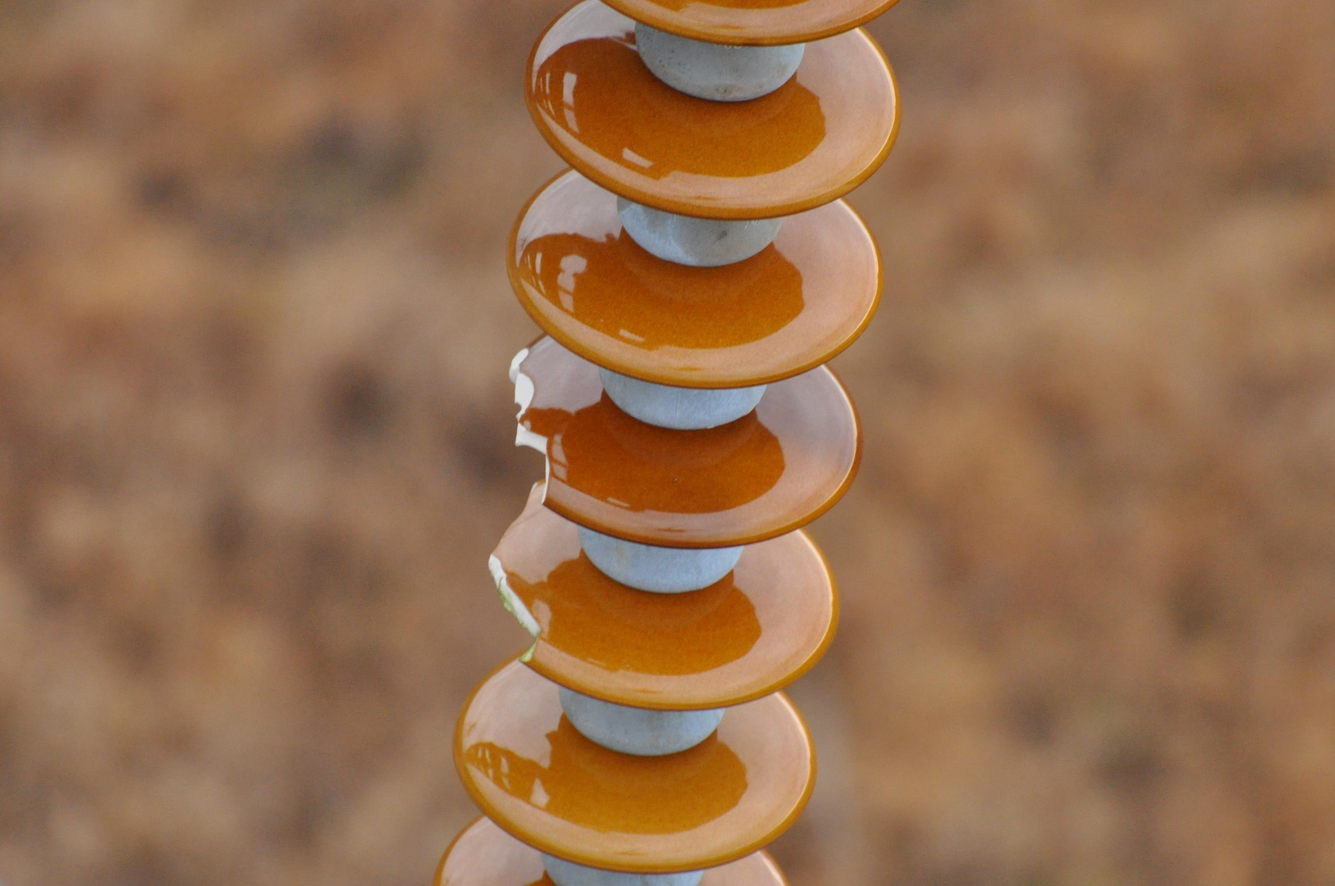damaged: (498, 323, 645, 520), (489, 479, 609, 698)
insulator: (436, 0, 901, 886)
